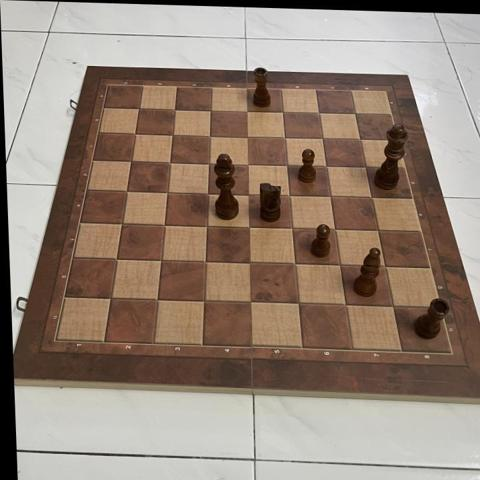xcorner: (236, 103, 253, 120), (164, 102, 181, 119), (199, 128, 216, 145), (162, 127, 179, 144), (356, 159, 373, 176), (316, 158, 333, 175), (237, 156, 254, 173), (198, 155, 215, 172), (320, 188, 337, 205), (279, 187, 296, 204), (238, 186, 255, 203), (197, 185, 214, 202), (368, 222, 385, 239), (154, 216, 171, 233), (112, 215, 129, 232), (195, 253, 212, 270), (147, 290, 164, 307), (346, 105, 362, 122), (309, 105, 326, 121), (273, 104, 289, 121), (200, 103, 217, 119), (129, 101, 145, 118), (351, 131, 367, 148), (313, 130, 329, 147), (125, 127, 142, 143), (277, 157, 293, 174), (121, 154, 138, 170), (362, 189, 378, 206), (157, 184, 173, 201), (117, 183, 133, 200), (325, 221, 341, 238), (196, 218, 213, 234), (375, 259, 392, 275), (330, 257, 346, 274), (240, 254, 256, 271), (107, 250, 123, 267), (383, 298, 399, 315), (335, 297, 352, 313), (288, 295, 304, 312), (194, 292, 210, 309), (101, 289, 118, 305), (275, 130, 291, 146), (237, 129, 253, 145), (160, 155, 176, 171), (282, 220, 298, 236), (239, 219, 255, 235), (285, 256, 301, 272), (151, 252, 167, 268), (241, 294, 257, 310)
